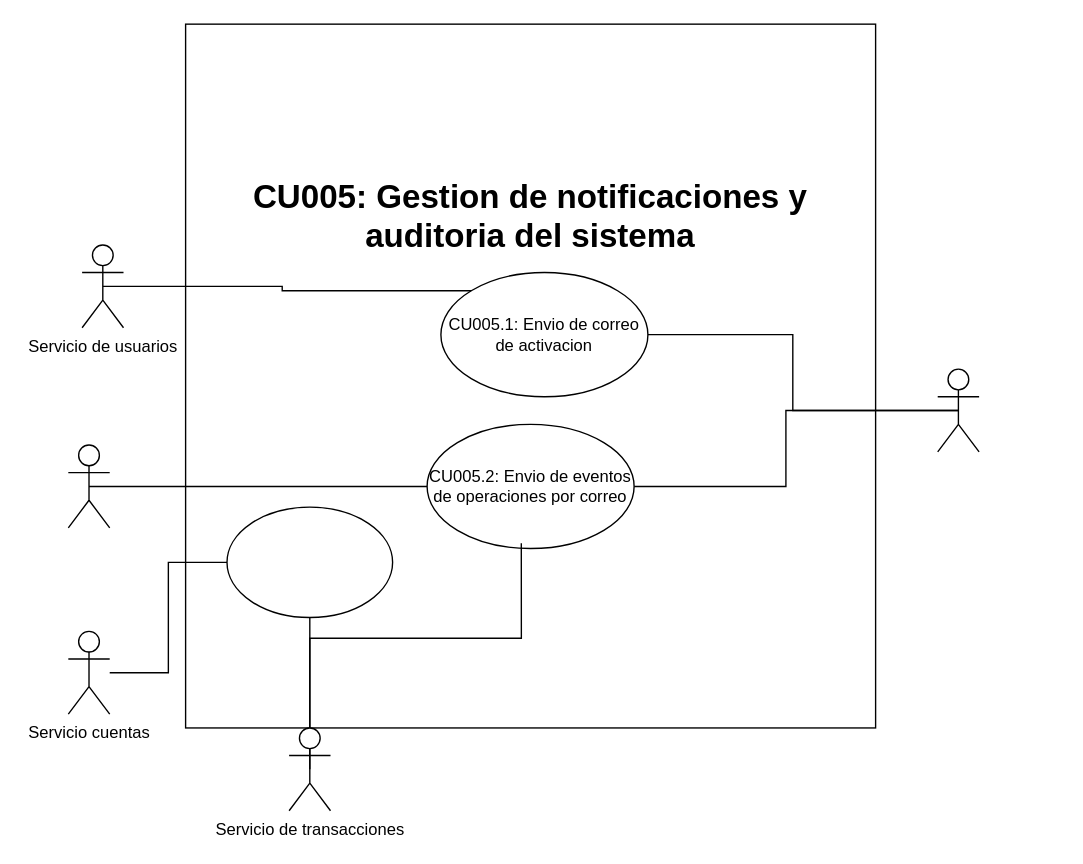
The diagram is 1083 pixels wide and 864 high, and some of its shapes have lost their labels. Each missing label, with the box of its shape:
CU005.3: Registrar logs internos del sistema: (226, 506, 393, 618)
Servicio de pagos: (67, 444, 110, 528)
Sistema externo de correos: (936, 368, 979, 452)
